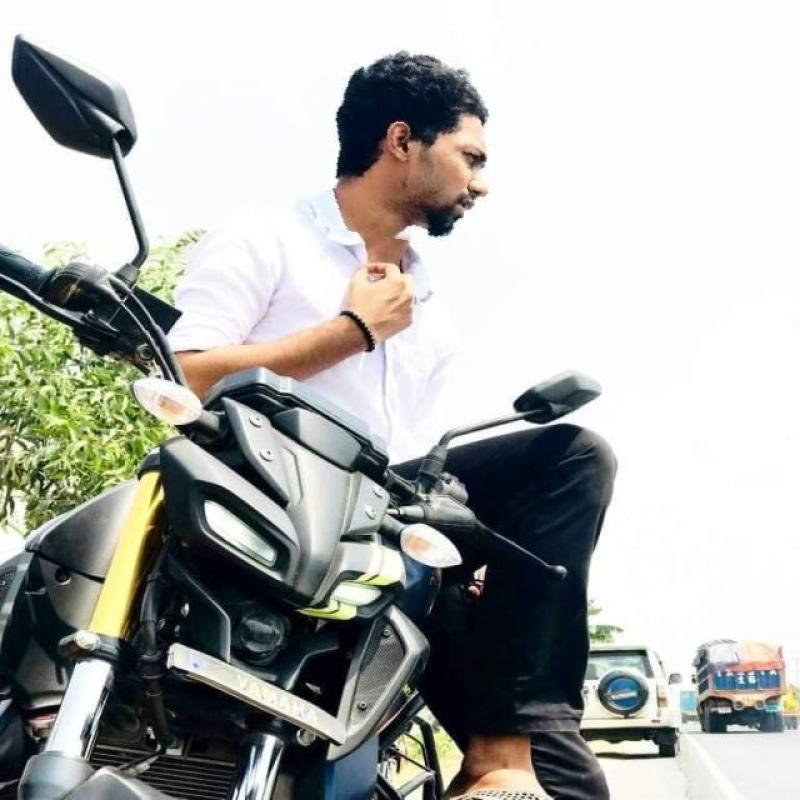nohelmet: (299, 32, 519, 247)
